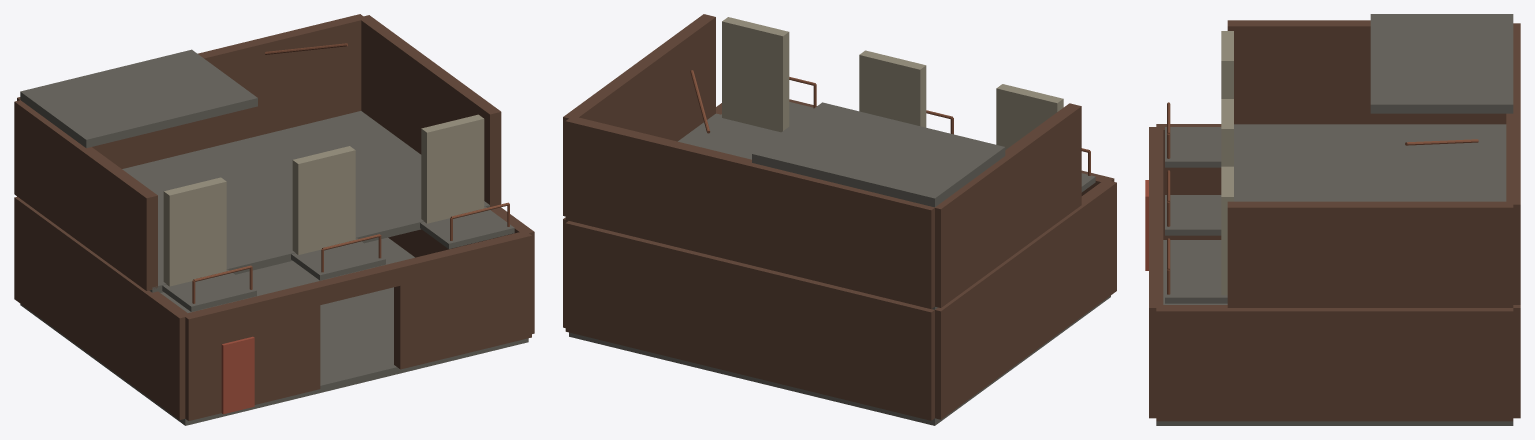
Rendered from ruin_rowhouse.glb.
3 views of the same model, side by side, from view 1: azimuth 30°, elevation 25°; view 2: azimuth 150°, elevation 25°; view 3: azimuth 270°, elevation 25° (orthographic). The views are drawn at different scales.
Visible parts, largest first — view 1: FLOOR_upper, WALL_side, WALL_upper_back, WALL_front_pier.001, WALL_upper_side, roof_remnant, WALL_front_pier, WALL_upper_side.001, FLOOR_ground, WALL_upper_pier, WALL_upper_pier.002, WALL_upper_pier.001 (+6 smaller); view 2: WALL_back, WALL_upper_back, WALL_side, WALL_upper_side, roof_remnant, WALL_upper_side.001, WALL_upper_pier.002, WALL_upper_pier.001, WALL_upper_pier, FLOOR_upper, FLOOR_ground; view 3: WALL_side.001, WALL_upper_side.001, FLOOR_upper, WALL_upper_side, roof_remnant, FLOOR_ground, WALL_upper_back, balcony_slab.002, balcony_slab, balcony_slab.001, WALL_side, WALL_front_pier.001 (+7 smaller).
Boxes of the visible parts, bbox=[...] form: FLOOR_upper: bbox=[122, 111, 495, 292]; WALL_side: bbox=[14, 196, 190, 419]; WALL_upper_back: bbox=[17, 14, 366, 168]; WALL_front_pier.001: bbox=[394, 231, 531, 369]; WALL_upper_side: bbox=[14, 100, 157, 290]; roof_remnant: bbox=[20, 49, 257, 148]; WALL_front_pier: bbox=[183, 282, 320, 420]; WALL_upper_side.001: bbox=[359, 15, 501, 206]; FLOOR_ground: bbox=[20, 237, 528, 425]; WALL_upper_pier: bbox=[163, 177, 226, 286]; WALL_upper_pier.002: bbox=[421, 114, 484, 223]; WALL_upper_pier.001: bbox=[292, 146, 355, 254]; WALL_back: bbox=[565, 221, 934, 420]; WALL_upper_back: bbox=[565, 116, 937, 309]; WALL_side: bbox=[935, 179, 1116, 419]; WALL_upper_side: bbox=[929, 103, 1081, 307]; roof_remnant: bbox=[752, 102, 1005, 207]; WALL_upper_side.001: bbox=[563, 14, 715, 216]; WALL_upper_pier.002: bbox=[722, 17, 789, 132]; WALL_upper_pier.001: bbox=[859, 50, 926, 127]; WALL_upper_pier: bbox=[996, 84, 1063, 149]; FLOOR_upper: bbox=[678, 113, 937, 309]; FLOOR_ground: bbox=[569, 295, 1110, 425]; WALL_side.001: bbox=[1156, 305, 1513, 421]; WALL_upper_side.001: bbox=[1227, 201, 1513, 307]; FLOOR_upper: bbox=[1234, 124, 1506, 201]; WALL_upper_side: bbox=[1227, 20, 1506, 124]; roof_remnant: bbox=[1370, 14, 1513, 113]; FLOOR_ground: bbox=[1156, 240, 1513, 425]; WALL_upper_back: bbox=[1506, 23, 1520, 304]; balcony_slab.002: bbox=[1165, 263, 1227, 303]; balcony_slab: bbox=[1165, 127, 1221, 167]; balcony_slab.001: bbox=[1165, 195, 1221, 235]; WALL_side: bbox=[1156, 124, 1221, 239]; WALL_front_pier.001: bbox=[1149, 238, 1163, 418].
Bounding box in the file's own units: 12.4 × 7.69 × 10.5.
